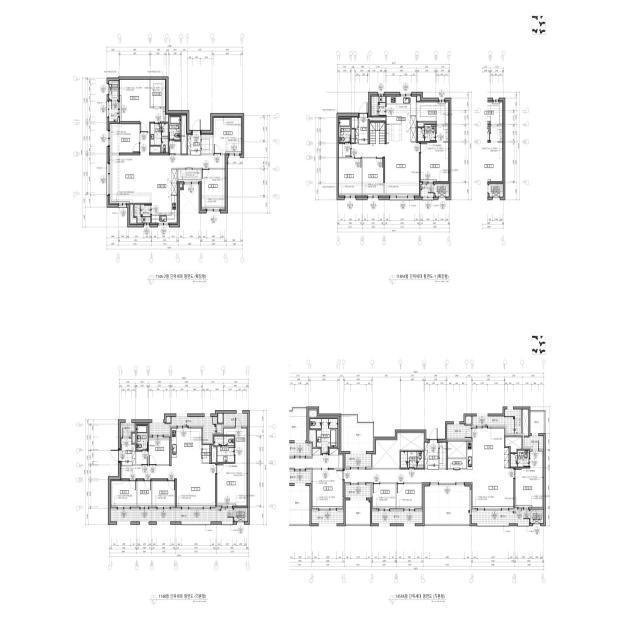space_balconi: (149, 417, 222, 445), (425, 486, 470, 524), (111, 508, 233, 522), (472, 409, 522, 434), (341, 416, 374, 451), (472, 510, 529, 524), (372, 512, 423, 524), (346, 500, 370, 524), (312, 511, 344, 524), (447, 424, 471, 438), (224, 413, 247, 427), (345, 486, 371, 498), (345, 454, 371, 466), (134, 205, 151, 223), (530, 412, 544, 433), (371, 97, 385, 116), (288, 443, 310, 455), (288, 471, 310, 483), (524, 436, 543, 448), (121, 422, 135, 437), (109, 101, 118, 122), (421, 184, 434, 197)
space_bedroom: (120, 80, 165, 132), (515, 451, 543, 507), (421, 126, 449, 181), (217, 464, 247, 506), (312, 470, 343, 508), (214, 117, 242, 153), (202, 170, 226, 209), (339, 158, 362, 196), (110, 124, 139, 153), (363, 158, 383, 196), (111, 481, 136, 507), (397, 484, 422, 509), (152, 481, 175, 507), (373, 484, 396, 509), (149, 437, 169, 464)
space_dressroom: (223, 428, 247, 464), (417, 102, 449, 125), (150, 80, 165, 107)
space_front: (121, 439, 135, 466), (425, 443, 439, 469), (355, 118, 368, 144), (188, 133, 201, 155)
space_kitchen: (467, 428, 509, 469), (386, 96, 416, 143), (152, 169, 177, 223), (171, 428, 202, 465)
space_living_room: (110, 133, 226, 203), (344, 468, 514, 508), (121, 464, 215, 507), (352, 143, 419, 196)
space_other: (373, 433, 424, 468), (289, 449, 343, 468), (137, 481, 151, 507), (370, 122, 385, 144), (448, 441, 466, 458), (178, 169, 201, 181), (505, 437, 522, 452), (202, 134, 213, 153), (182, 116, 187, 154), (448, 459, 466, 468), (339, 144, 351, 157), (169, 141, 181, 154), (440, 443, 446, 468), (136, 452, 148, 464), (523, 409, 528, 436), (309, 430, 316, 447), (203, 445, 209, 463), (130, 205, 136, 223), (418, 122, 436, 127), (212, 445, 216, 462), (352, 117, 358, 128), (370, 117, 385, 121), (218, 414, 223, 423), (309, 411, 316, 417), (466, 416, 471, 424), (132, 434, 135, 443), (352, 130, 354, 143), (166, 417, 170, 423), (166, 114, 168, 122), (417, 96, 420, 101), (180, 184, 182, 187)
space_outdoor_room: (234, 508, 247, 522), (435, 184, 449, 197), (109, 81, 118, 100), (530, 510, 543, 523)
space_toilet: (310, 419, 337, 453), (150, 124, 168, 153), (214, 436, 234, 462), (401, 452, 424, 468), (136, 425, 148, 450), (169, 116, 181, 141), (511, 451, 529, 467), (418, 125, 435, 141), (339, 119, 350, 142)
